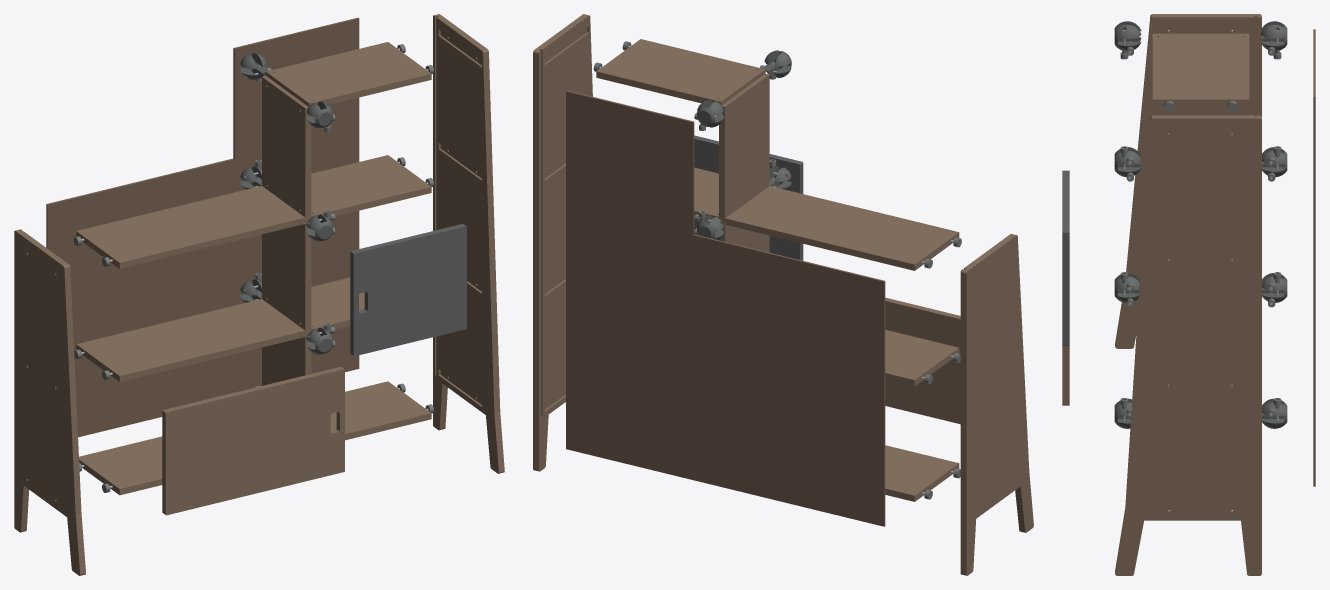
The model's file is exploded.glb.
3 views of the same model, side by side, from view 1: azimuth 30°, elevation 25°; view 2: azimuth 150°, elevation 25°; view 3: azimuth 270°, elevation 25° (orthographic). The views are drawn at different scales.
Parts seen in each view (by area): view 1: back-panel, frame-right, door-0, frame-left, shelf-2, door-1, shelf-1, shelf-0, shelf-3, partition-2, partition-1, partition-0; view 2: back-panel, frame-left, frame-right, shelf-2, shelf-3, partition-2, door-0, shelf-0, shelf-1, door-1, partition-1; view 3: frame-right, shelf-3, frame-left, door-1, back-panel, partition-2, node-x600-l3-rear, node-x600-l3-front, node-x600-l0-rear, node-x600-l2-front, node-x600-l1-rear, node-x600-l2-rear (+3 smaller).
Part boxes in pixels (x1,y1,x2,y2): back-panel: (46, 17, 359, 437); frame-right: (433, 14, 504, 473); door-0: (162, 366, 344, 515); frame-left: (14, 229, 85, 575); shelf-2: (76, 155, 431, 268); door-1: (350, 224, 466, 356); shelf-1: (76, 277, 364, 381); shelf-0: (79, 381, 431, 495); shelf-3: (266, 42, 431, 106); partition-2: (262, 76, 311, 219); partition-1: (262, 221, 311, 332); partition-0: (262, 334, 311, 385); back-panel: (566, 90, 885, 526); frame-left: (960, 234, 1033, 575); frame-right: (533, 14, 592, 471); shelf-2: (694, 167, 959, 270); shelf-3: (596, 39, 765, 105); partition-2: (719, 73, 769, 220); door-0: (885, 297, 960, 424); shelf-0: (885, 445, 959, 501); shelf-1: (885, 329, 959, 386); door-1: (694, 135, 803, 260); partition-1: (719, 222, 769, 252); frame-right: (1115, 115, 1261, 575); shelf-3: (1152, 33, 1249, 106); frame-left: (1115, 14, 1261, 348); door-1: (1062, 170, 1069, 345); back-panel: (1313, 29, 1315, 486); partition-2: (1152, 106, 1249, 132); node-x600-l3-rear: (1260, 21, 1287, 50); node-x600-l3-front: (1114, 21, 1141, 50); node-x600-l0-rear: (1262, 398, 1287, 428); node-x600-l2-front: (1114, 147, 1141, 177); node-x600-l1-rear: (1262, 273, 1287, 302); node-x600-l2-rear: (1262, 147, 1287, 177).
Bounding box in the file's own units: 1.3 × 1.2 × 0.603.
